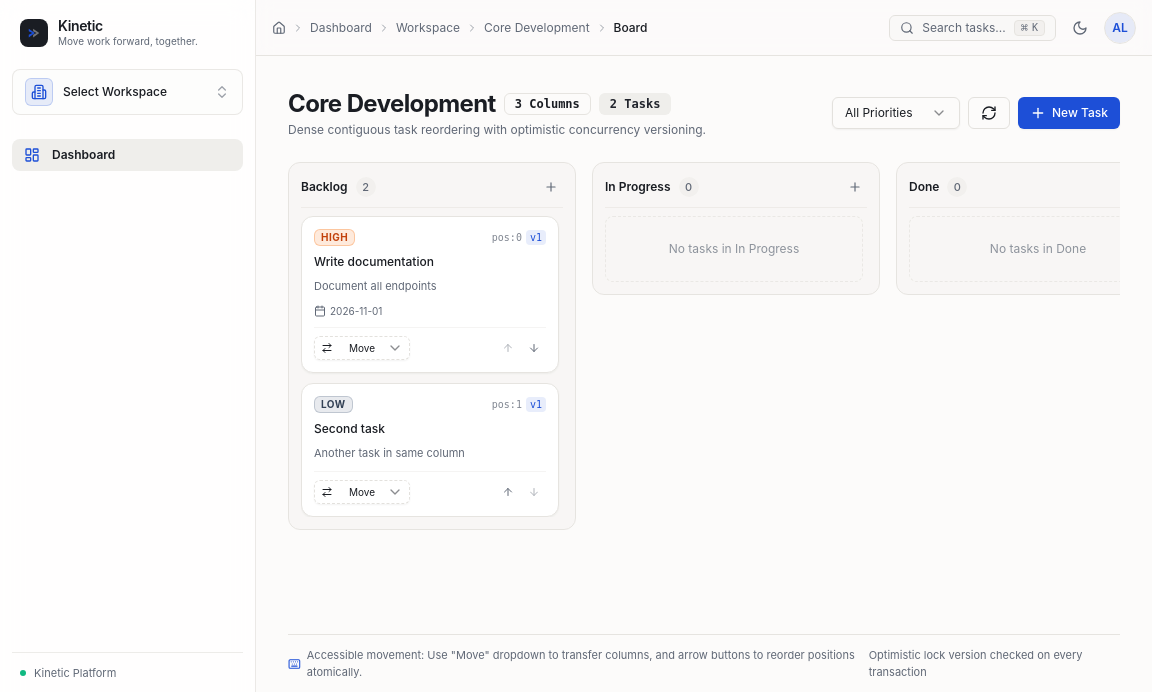
Test: KanbanBoardPage Flow › handles optimistic locking conflict (409) during task move
Expected: the link "Write documentation" is shown, [314,254,434,269]
Expected: the link "Second task" is shown, [314,421,385,436]
Click the button named "move task down" below "2026-11-01" at (534, 348), box [522,336,546,360]
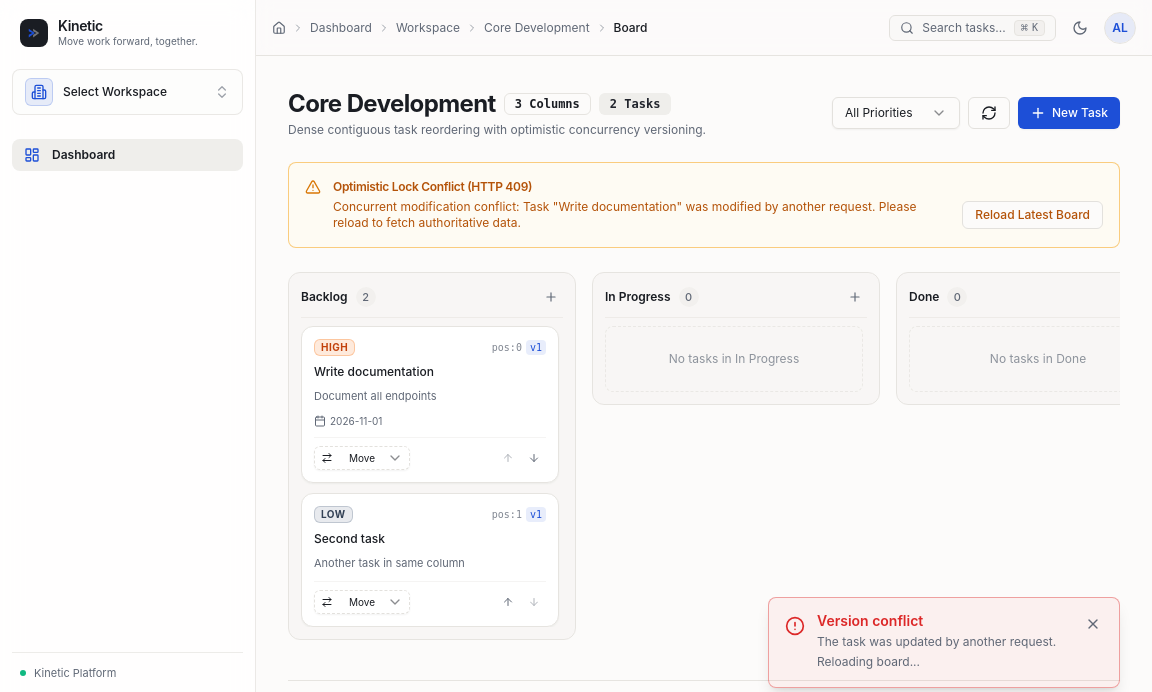
Expected: the heading "Optimistic Lock Conflict (HTTP 409)" is shown, [333,179,532,194]
Expected: the button "Reload Latest Board" is shown, [962,201,1103,229]
